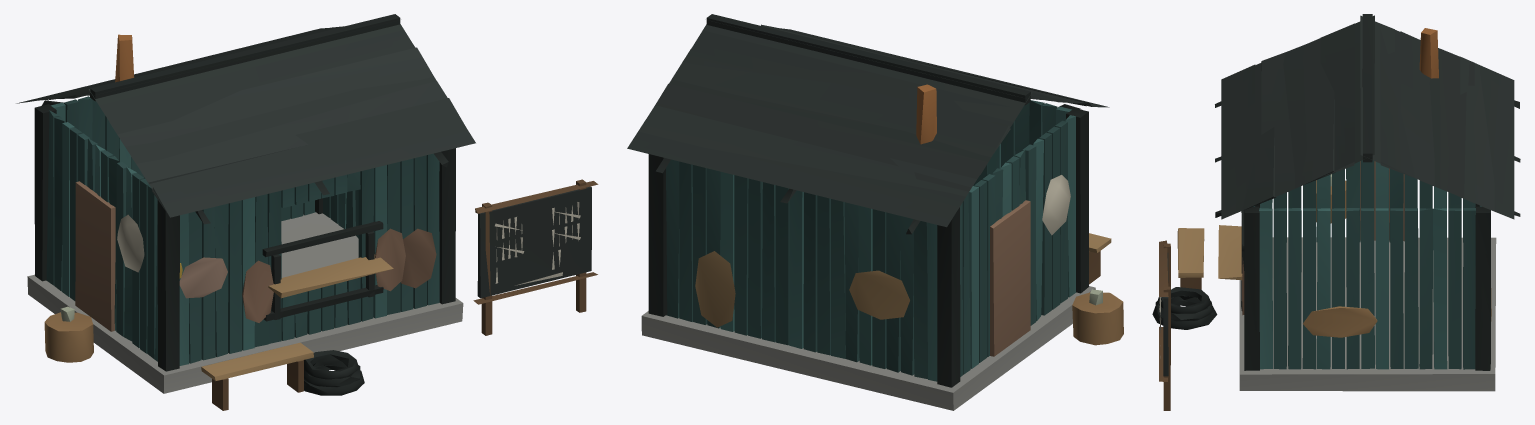
Rendered from billing_booth_a_lod2.glb.
The picture shows the model from 3 angles, left to right: view 1: azimuth 30°, elevation 25°; view 2: azimuth 150°, elevation 25°; view 3: azimuth 270°, elevation 25°; orthographic projection. The views are drawn at different scales.
Parts seen in each view (by area): view 1: Surface.001; view 2: Surface.001; view 3: Surface.001.
Part boxes in pixels (bbox=[...]): Surface.001: bbox=[16, 14, 598, 410]; Surface.001: bbox=[627, 14, 1123, 410]; Surface.001: bbox=[1152, 14, 1520, 410].
Size of the model in its own units: 7.35 by 4.09 by 5.42.
